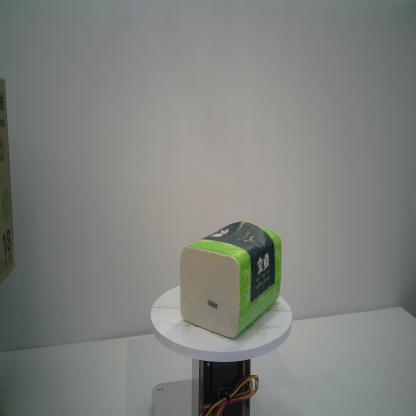Tissue: (178, 219, 284, 338)
